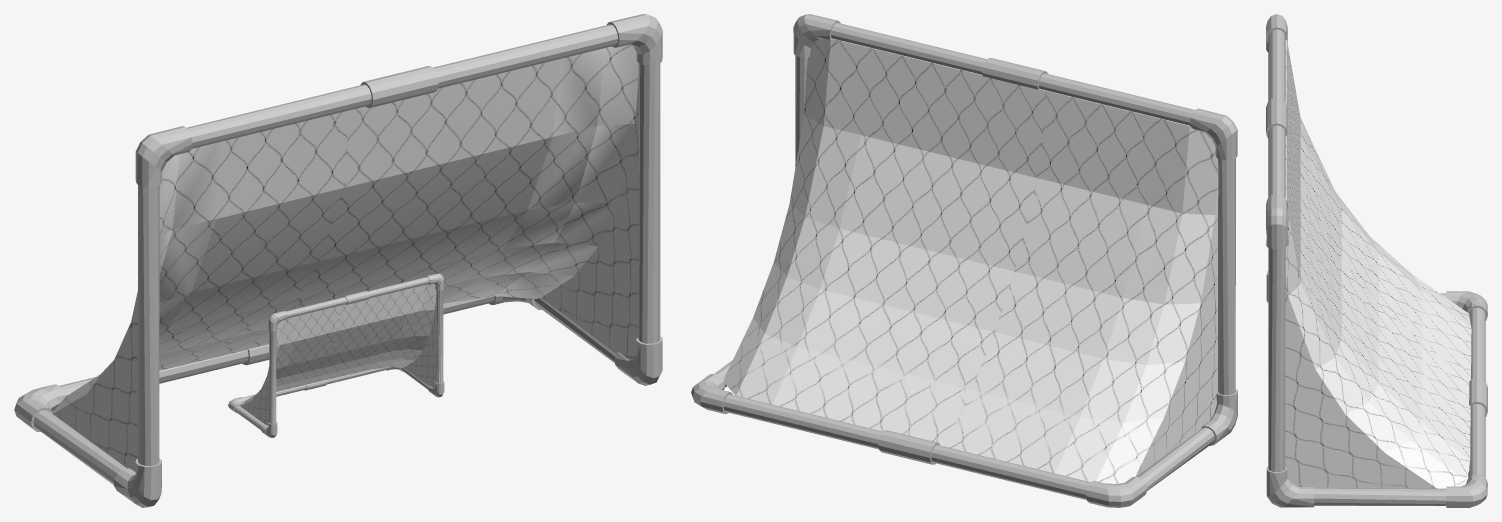
The model's file is SmallGoal.fbx.
3 views of the same model, side by side, from view 1: azimuth 30°, elevation 25°; view 2: azimuth 150°, elevation 25°; view 3: azimuth 270°, elevation 25° (orthographic). The views are drawn at different scales.
Visible parts, largest first — view 1: net_low.001, net_low, net_low.002; view 2: net_low.001, net_low; view 3: net_low.001, net_low.
Part boxes in pixels (x1=…): net_low.001: x1=52, y1=45, x2=638, y2=471; net_low: x1=14, y1=14, x2=662, y2=507; net_low.002: x1=228, y1=273, x2=444, y2=437; net_low.001: x1=724, y1=38, x2=1218, y2=483; net_low: x1=691, y1=14, x2=1237, y2=507; net_low.001: x1=1285, y1=40, x2=1471, y2=488; net_low: x1=1266, y1=14, x2=1487, y2=507.
Size of the model in its own units: 377 by 258 by 173.
